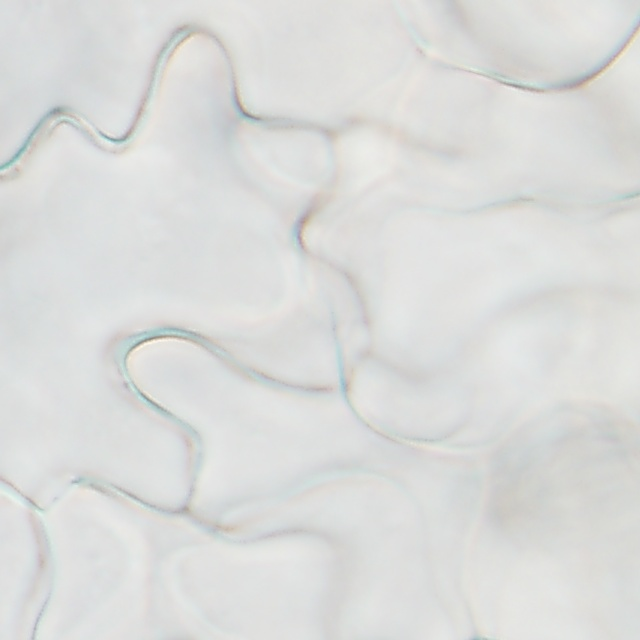center: (504, 38, 588, 53)
stomata-huw1: (453, 1, 639, 90)
